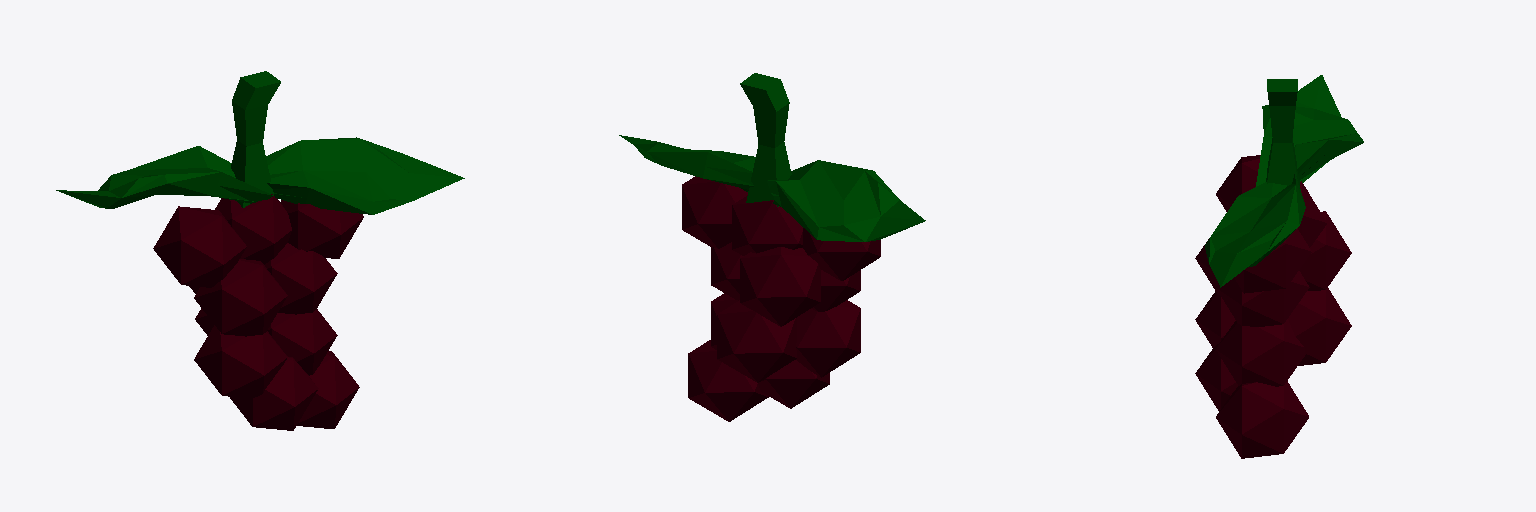
The model's file is grapes.obj.
The picture shows the model from 3 angles: view 1: azimuth 30°, elevation 25°; view 2: azimuth 150°, elevation 25°; view 3: azimuth 270°, elevation 25°; orthographic projection.
Parts seen in each view (by area): view 1: pCube1, pasted__pCube1 group9, pasted__pasted__pPlatonic1 pasted__group4 group5, group6 pasted__pasted__pasted__pPlatonic1 pasted__pasted__group4, pasted__group6 group10 pasted__pasted__pasted__pasted__pPlatonic, pCube2, pasted__pasted__pasted__pasted__pasted__pPlatonic1 pasted__paste, pasted__pPlatonic1 group6, pPlatonic1, pasted__pPlatonic1 group4, pasted__pasted__pPlatonic1 pasted__group6 group10, group10 pasted__pasted__pasted__pPlatonic1 pasted__pasted__group; view 2: pasted__pCube1 group9, pasted__pPlatonic1 group8, group10 pasted__pasted__pPlatonic1 pasted__group8, pCube2, pasted__group6 group10 pasted__pasted__pasted__pasted__pPlatonic, group10 pasted__pasted__pasted__pPlatonic1 pasted__pasted__group, pasted__pPlatonic1 group4, pCube1, pPlatonic1, pasted__pasted__pPlatonic1 pasted__group4 group5, pasted__pasted__pasted__pasted__pasted__pPlatonic1 pasted__paste, pasted__pPlatonic1 group6 (+2 smaller); view 3: pCube1, group10 pasted__pasted__pasted__pPlatonic1 pasted__pasted__group, pasted__pCube1 group9, pasted__pasted__pPlatonic1 pasted__group6 group10, group10 pasted__pasted__pPlatonic1 pasted__group8, pCube2, pasted__pPlatonic1 group6, pasted__pPlatonic1 group4, pasted__pPlatonic1 group8, pasted__pasted__pasted__pasted__pasted__pPlatonic1 pasted__paste, pasted__pasted__pPlatonic1 pasted__group4 group5, pasted__group6 group10 pasted__pasted__pasted__pasted__pPlatonic (+1 smaller).
Part boxes in pixels (left/top/right/bottom): pCube1: left=266, top=137, right=464, bottom=214; pasted__pCube1 group9: left=56, top=146, right=272, bottom=208; pasted__pasted__pPlatonic1 pasted__group4 group5: left=153, top=206, right=246, bottom=287; group6 pasted__pasted__pasted__pPlatonic1 pasted__pasted__group4: left=194, top=259, right=287, bottom=336; pasted__group6 group10 pasted__pasted__pasted__pasted__pPlatonic: left=194, top=325, right=287, bottom=398; pCube2: left=231, top=71, right=280, bottom=207; pasted__pasted__pasted__pasted__pasted__pPlatonic1 pasted__paste: left=230, top=356, right=318, bottom=430; pasted__pPlatonic1 group6: left=265, top=243, right=337, bottom=314; pPlatonic1: left=215, top=194, right=291, bottom=264; pasted__pPlatonic1 group4: left=280, top=200, right=363, bottom=258; pasted__pasted__pPlatonic1 pasted__group6 group10: left=267, top=309, right=337, bottom=375; group10 pasted__pasted__pasted__pPlatonic1 pasted__pasted__group: left=297, top=351, right=359, bottom=428; pasted__pCube1 group9: left=767, top=160, right=925, bottom=241; pasted__pPlatonic1 group8: left=740, top=247, right=820, bottom=326; group10 pasted__pasted__pPlatonic1 pasted__group8: left=717, top=300, right=796, bottom=382; pCube2: left=740, top=73, right=791, bottom=206; pasted__group6 group10 pasted__pasted__pasted__pasted__pPlatonic: left=796, top=300, right=860, bottom=377; group10 pasted__pasted__pasted__pPlatonic1 pasted__pasted__group: left=688, top=340, right=768, bottom=421; pasted__pPlatonic1 group4: left=682, top=176, right=747, bottom=248; pCube1: left=619, top=135, right=755, bottom=191; pPlatonic1: left=732, top=195, right=802, bottom=255; pasted__pasted__pPlatonic1 pasted__group4 group5: left=802, top=228, right=880, bottom=280; pasted__pasted__pasted__pasted__pasted__pPlatonic1 pasted__paste: left=758, top=360, right=829, bottom=408; pasted__pPlatonic1 group6: left=711, top=242, right=743, bottom=300; pCube1: left=1205, top=173, right=1305, bottom=287; group10 pasted__pasted__pasted__pPlatonic1 pasted__pasted__group: left=1216, top=381, right=1308, bottom=458; pasted__pCube1 group9: left=1256, top=75, right=1363, bottom=186; pasted__pasted__pPlatonic1 pasted__group6 group10: left=1216, top=319, right=1305, bottom=386; group10 pasted__pasted__pPlatonic1 pasted__group8: left=1288, top=288, right=1351, bottom=365; pCube2: left=1266, top=79, right=1299, bottom=185; pasted__pPlatonic1 group6: left=1216, top=271, right=1309, bottom=326; pasted__pPlatonic1 group4: left=1234, top=228, right=1311, bottom=293; pasted__pPlatonic1 group8: left=1299, top=211, right=1351, bottom=290; pasted__pasted__pasted__pasted__pasted__pPlatonic1 pasted__paste: left=1195, top=344, right=1237, bottom=410; pasted__pasted__pPlatonic1 pasted__group4 group5: left=1216, top=155, right=1308, bottom=211; pasted__group6 group10 pasted__pasted__pasted__pasted__pPlatonic: left=1195, top=291, right=1235, bottom=347.
Size of the model in its own units: 8.79 by 8.14 by 3.6.